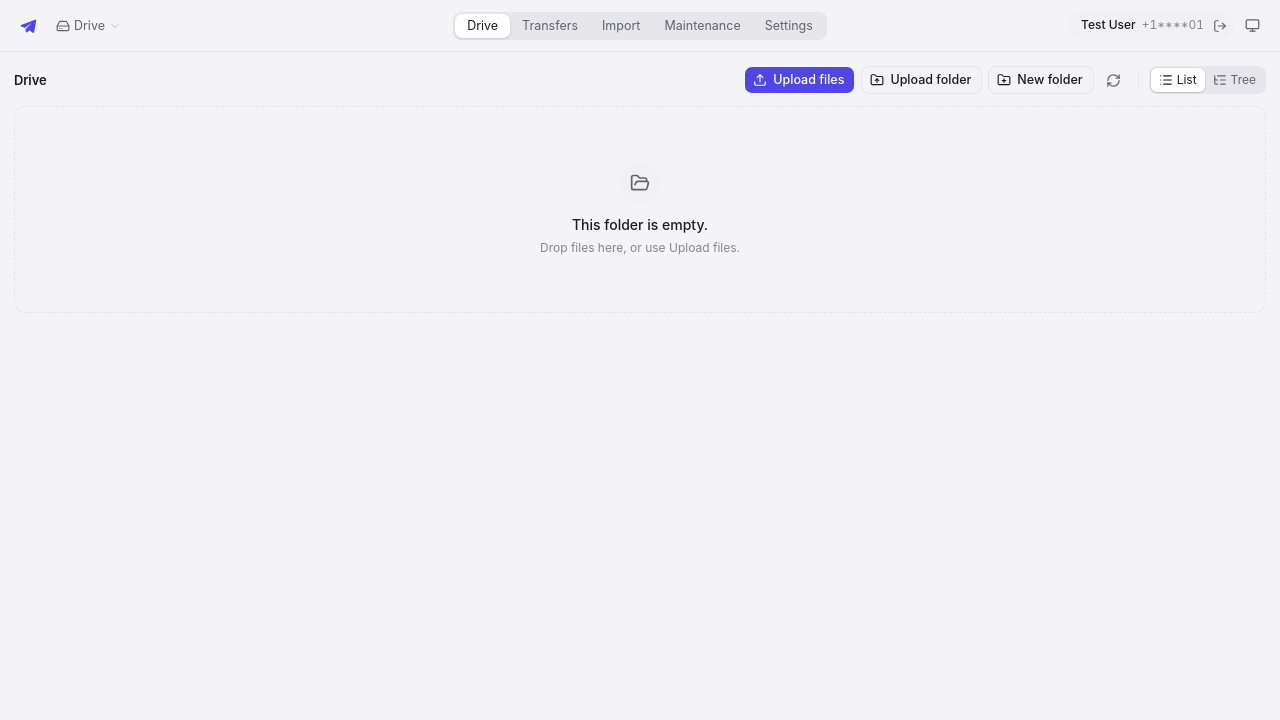
adopt preview renders the plan; the run waits for its confirmation sheet
expect the tab "Drive" is shown: met, box [455,14,510,38]
Press the mouse on the tab "Maintenance" at (703, 26), box [652,14,753,38]
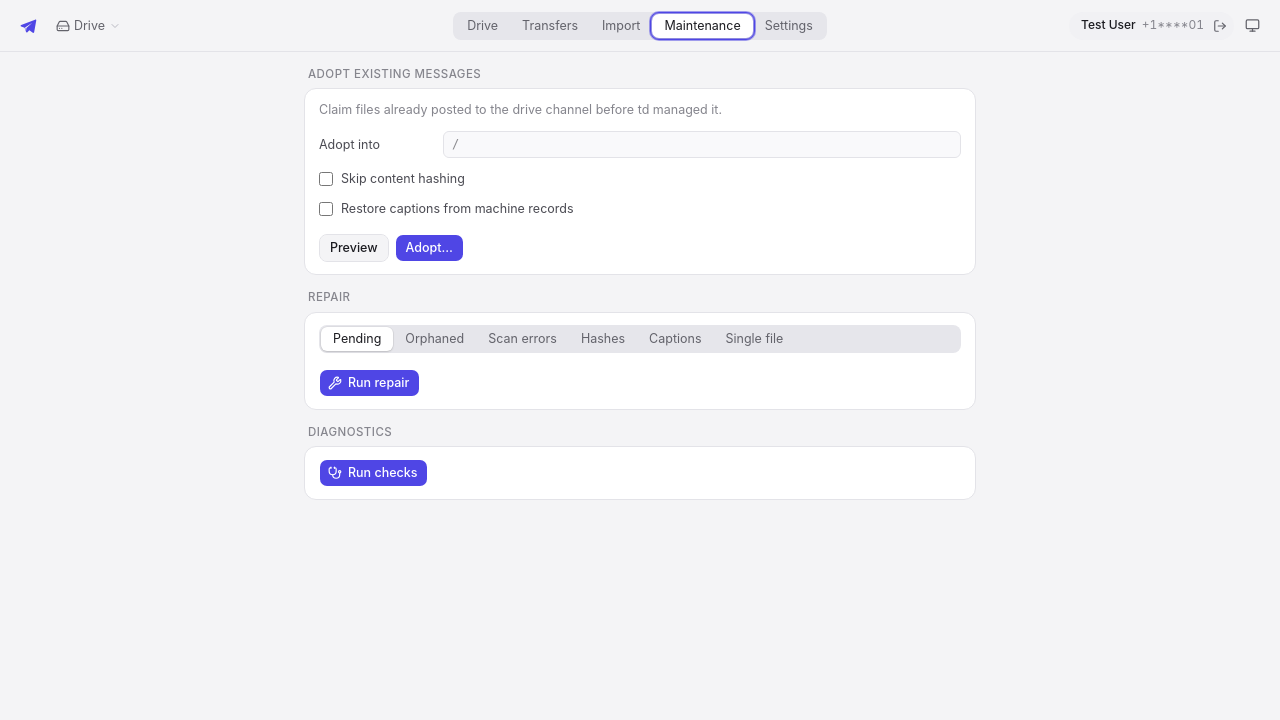
expect the heading "Adopt existing messages" is shown: met, box [308,67,481,81]
Click the button "Preview" at (354, 248), box [319,234,389,262]
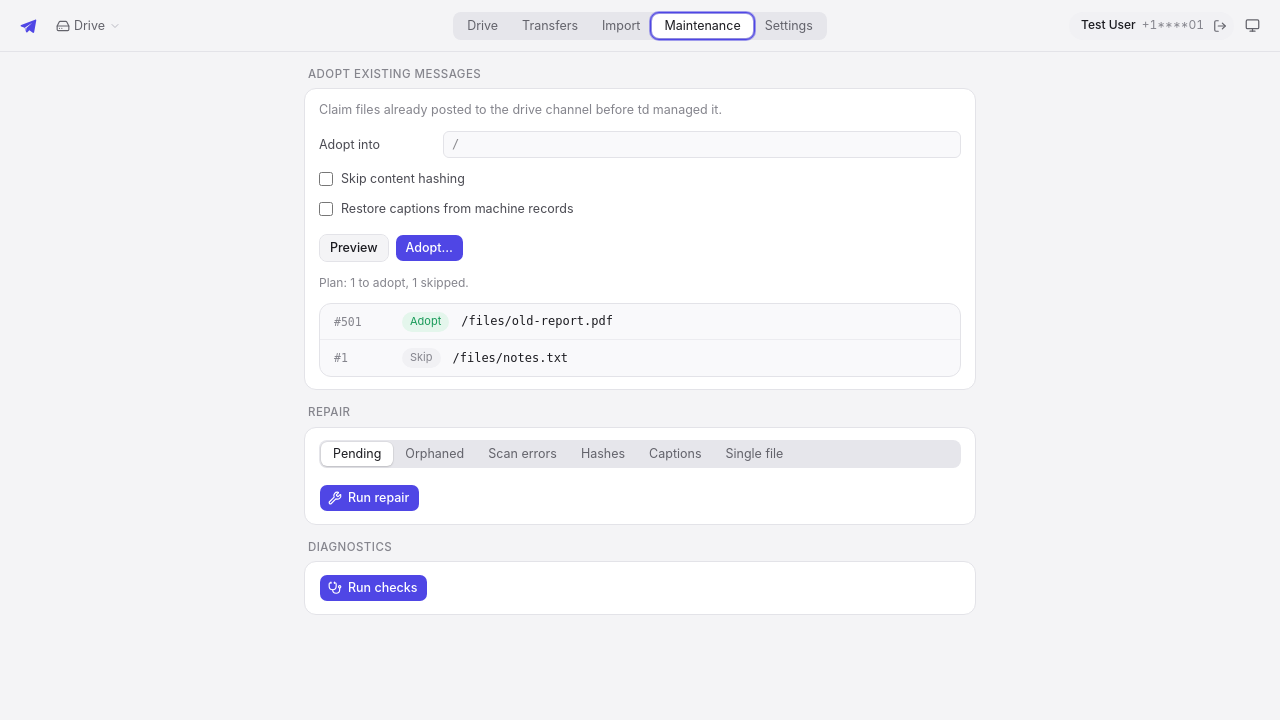
expect the text "Plan: 1 to adopt, 1 skipped." is shown: met, box [319,275,469,290]
expect the list item "#501 Adopt /files/old-report.pdf" is shown: met, box [320,304,960,340]
expect the list item "#1 Skip /files/notes.txt" is shown: met, box [334,348,568,368]
Click the button "Adopt…" at (429, 248), box [395,234,464,262]
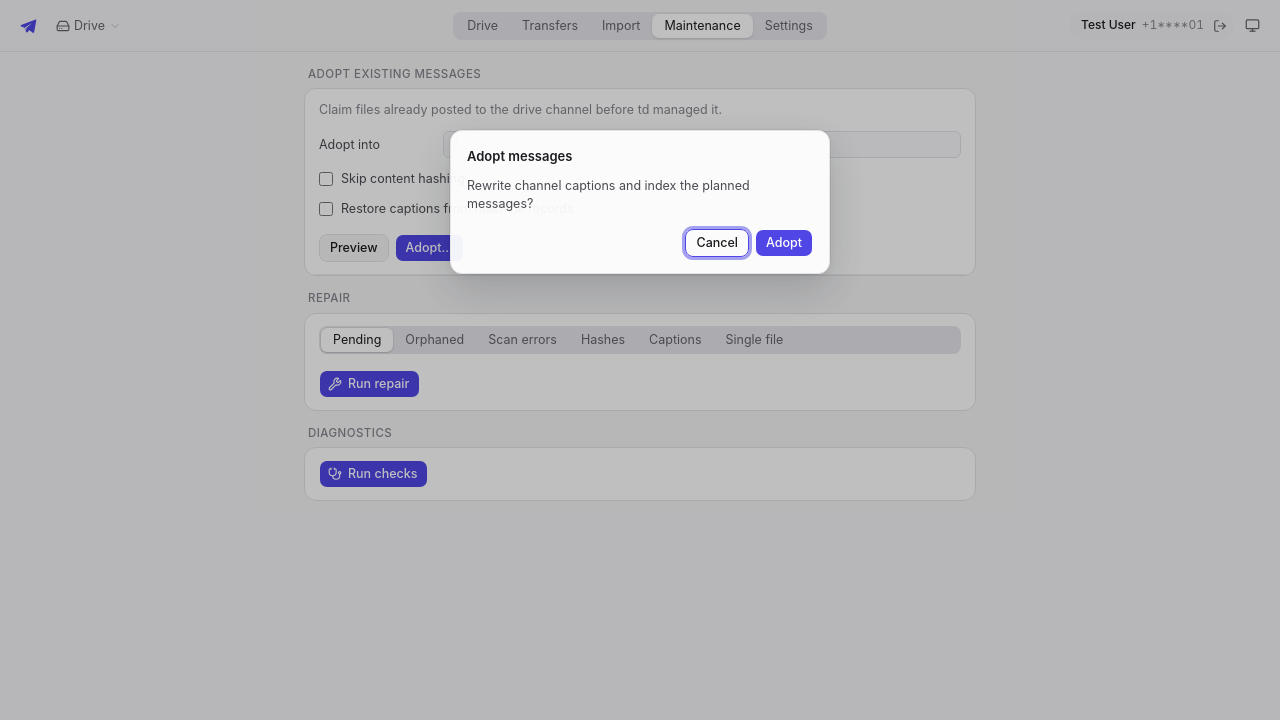
expect the text "1 adopted, 1 skipped, 0 failed." is not shown: met
Click the button "Cancel" at (717, 243), box [686,229,749,257]
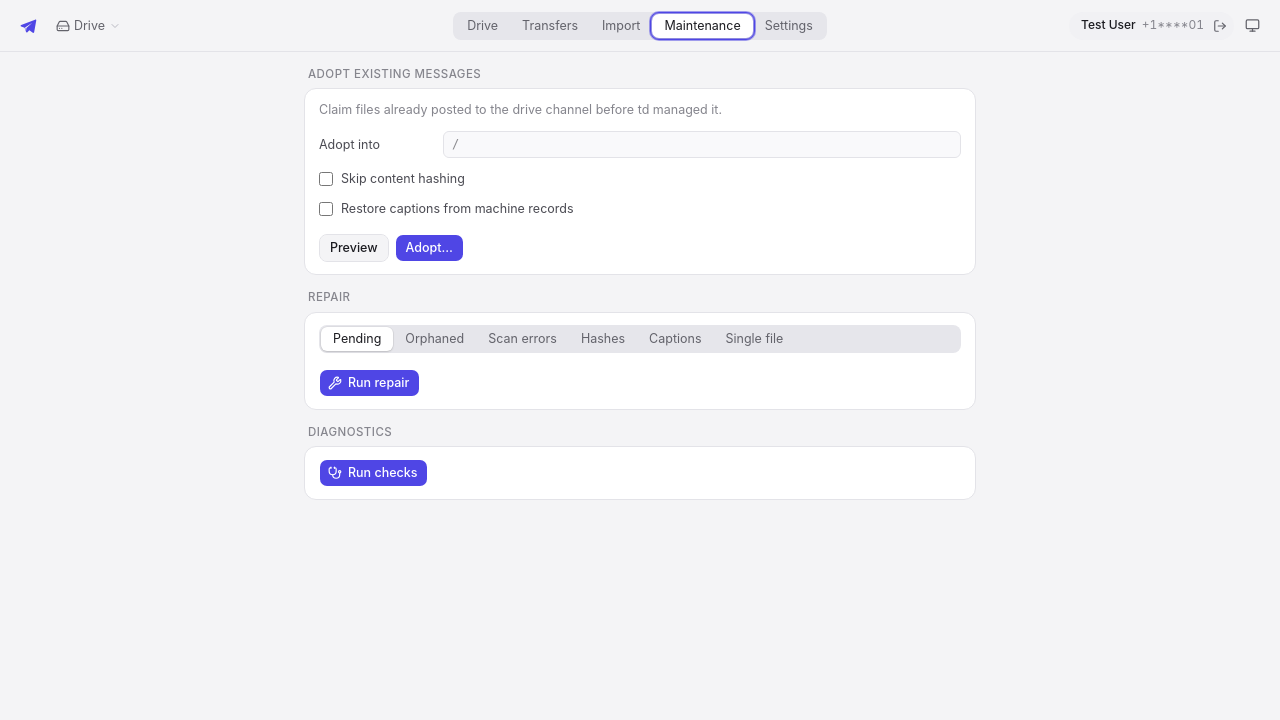
expect the text "1 adopted, 1 skipped, 0 failed." is not shown: met
expect the dialog is gone: met
Click the button "Adopt…" at (429, 248), box [395,234,464,262]
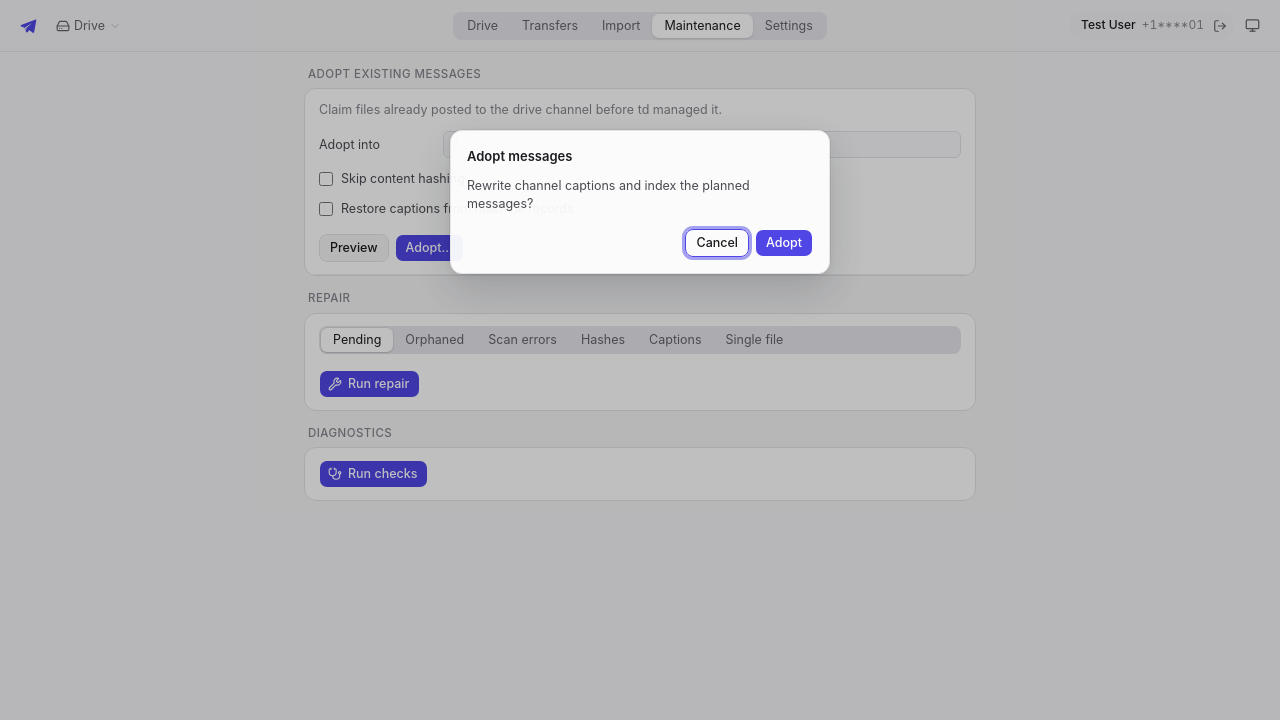
Click the button "Adopt" at (784, 243), box [755,229,813,257]
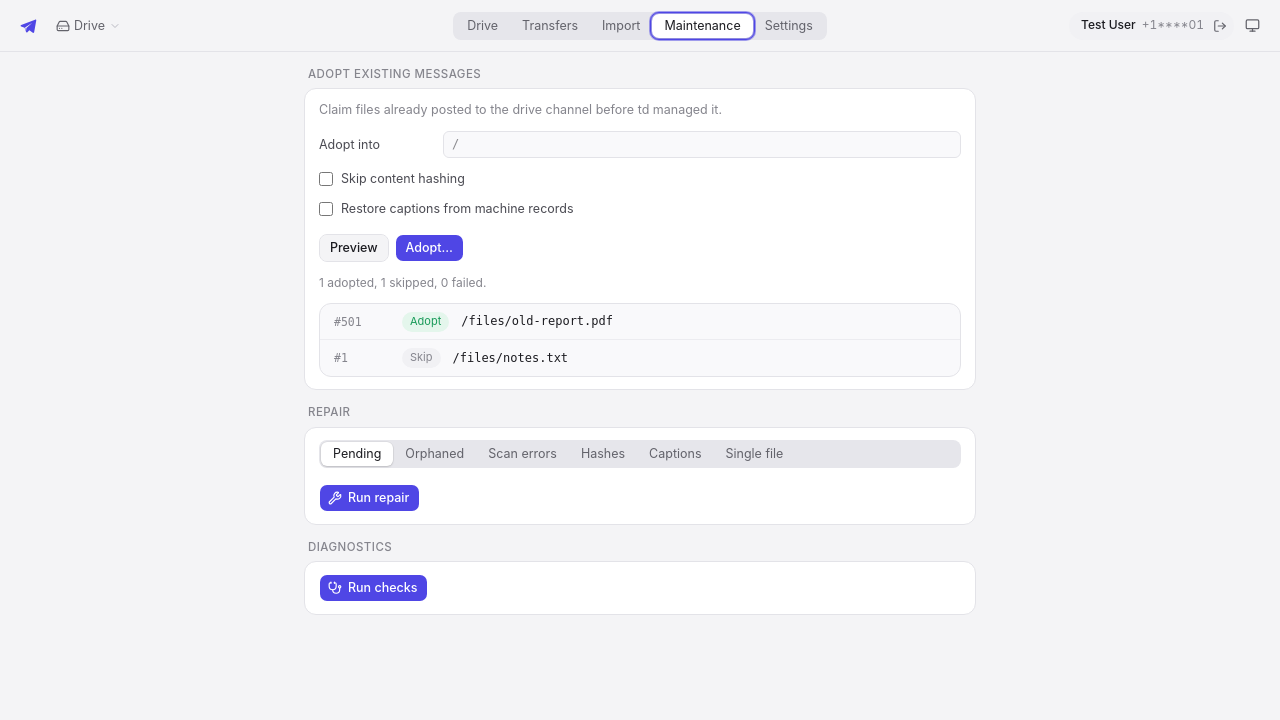
expect the text "1 adopted, 1 skipped, 0 failed." is shown: met, box [319,275,486,290]
